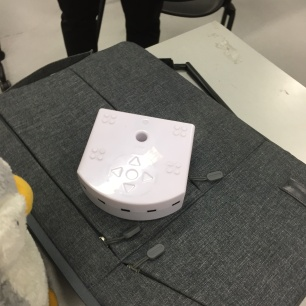thymio: (72, 105, 197, 221)
